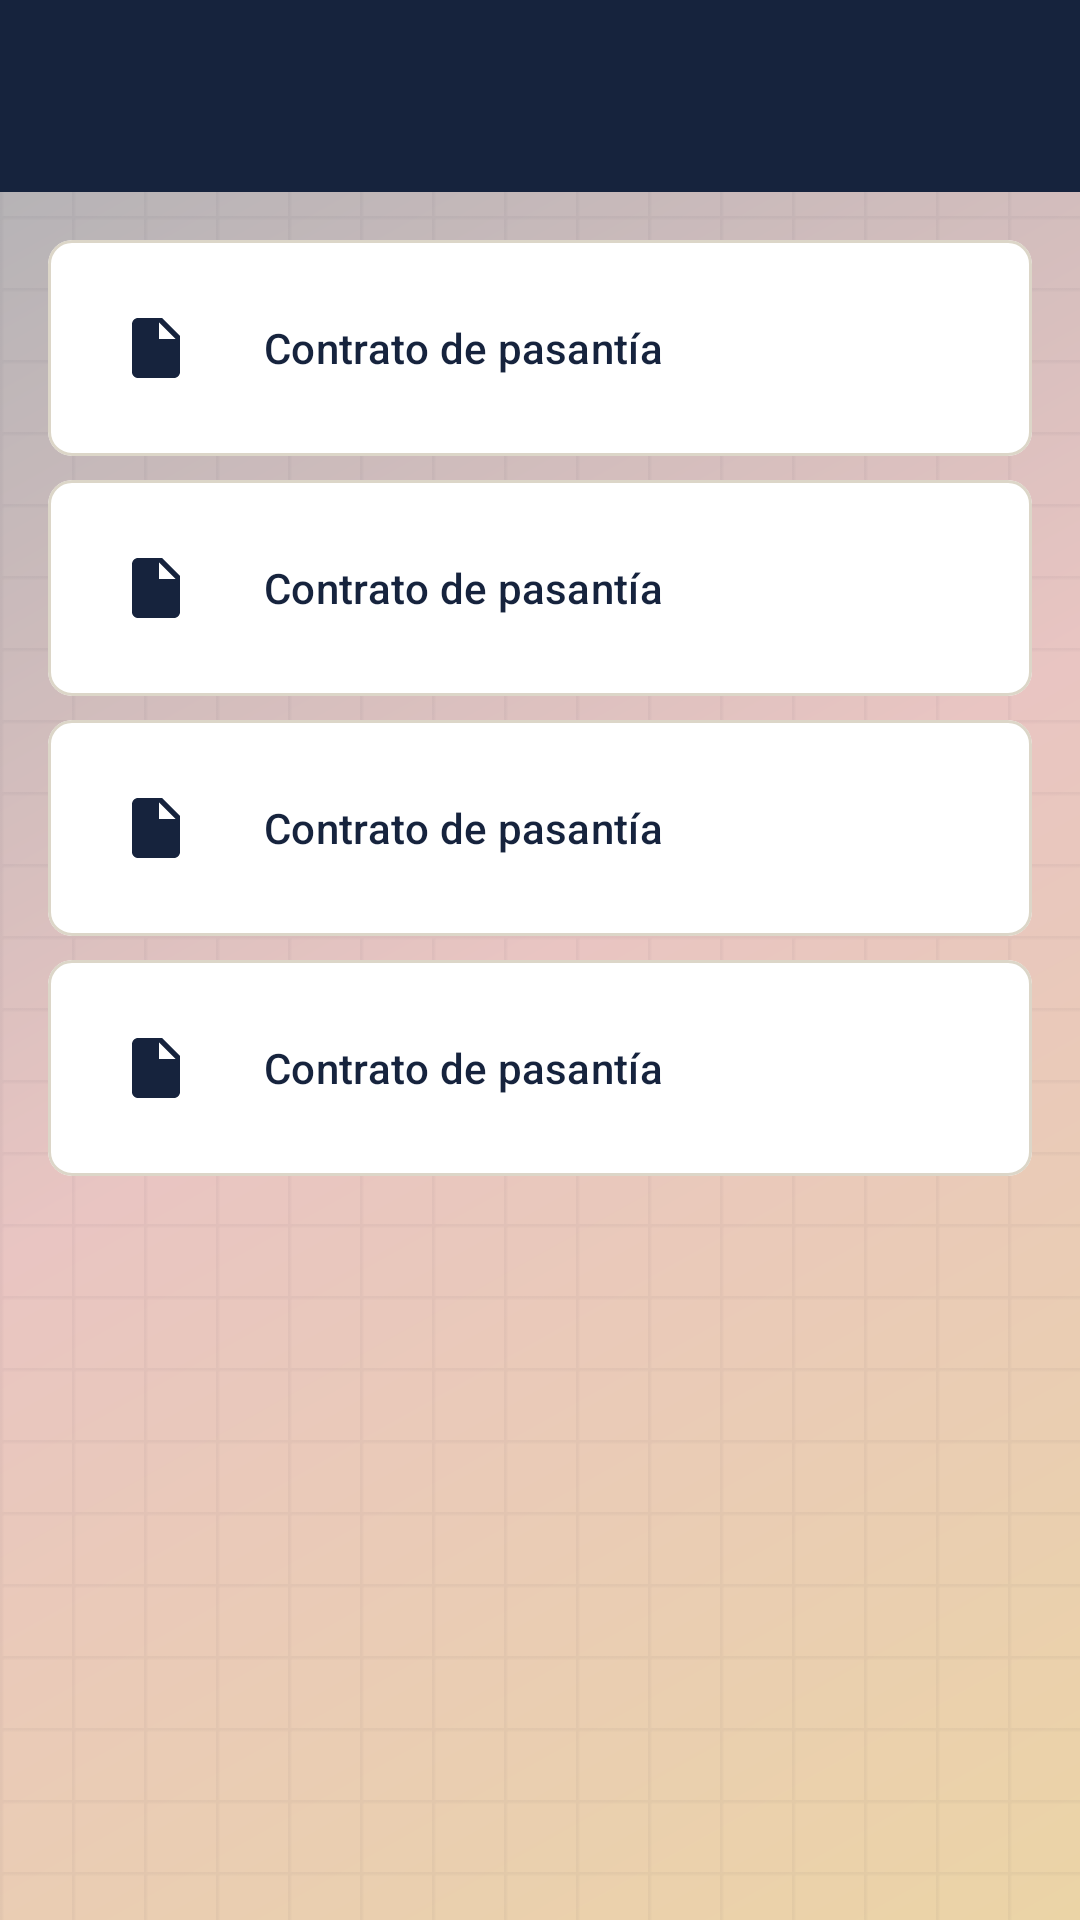

Icons on this 1080w x 1920h Android screen, each with its box as (x1, y1, x2, y2):
documentos: (132, 318, 180, 378), (132, 558, 180, 618), (132, 798, 180, 858), (132, 1038, 180, 1098)
